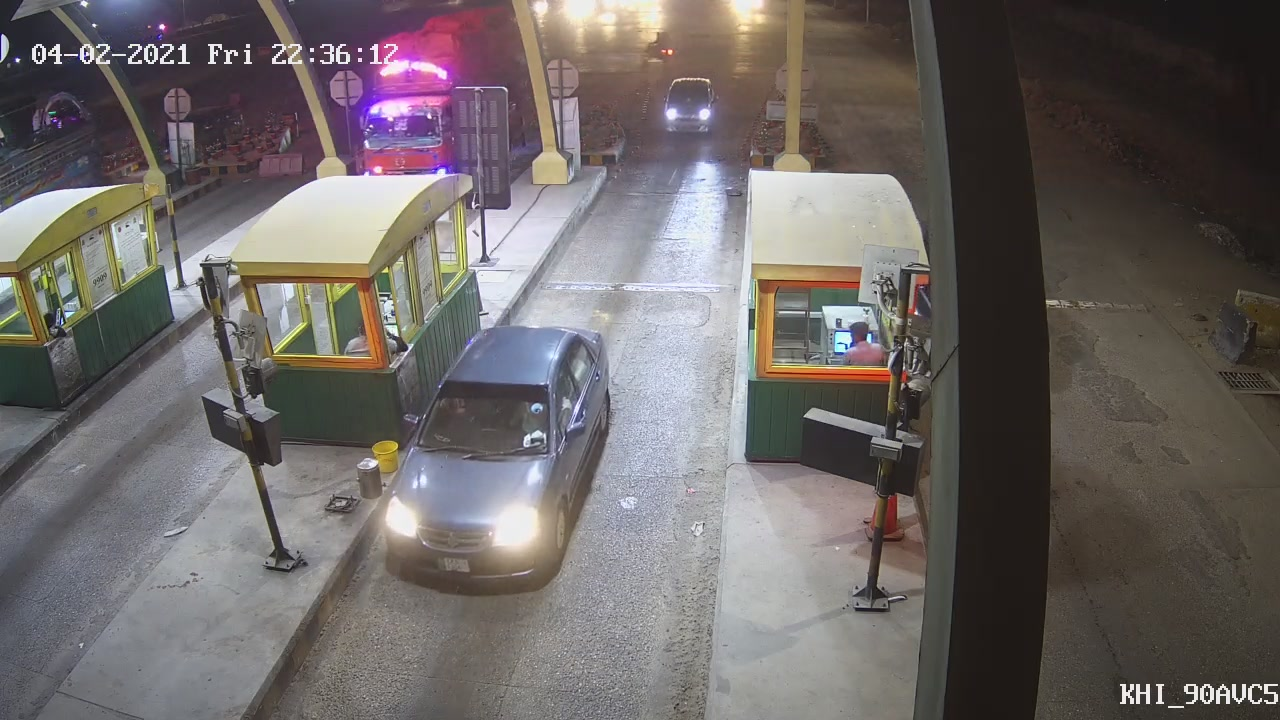F1: (380, 322, 625, 590)
